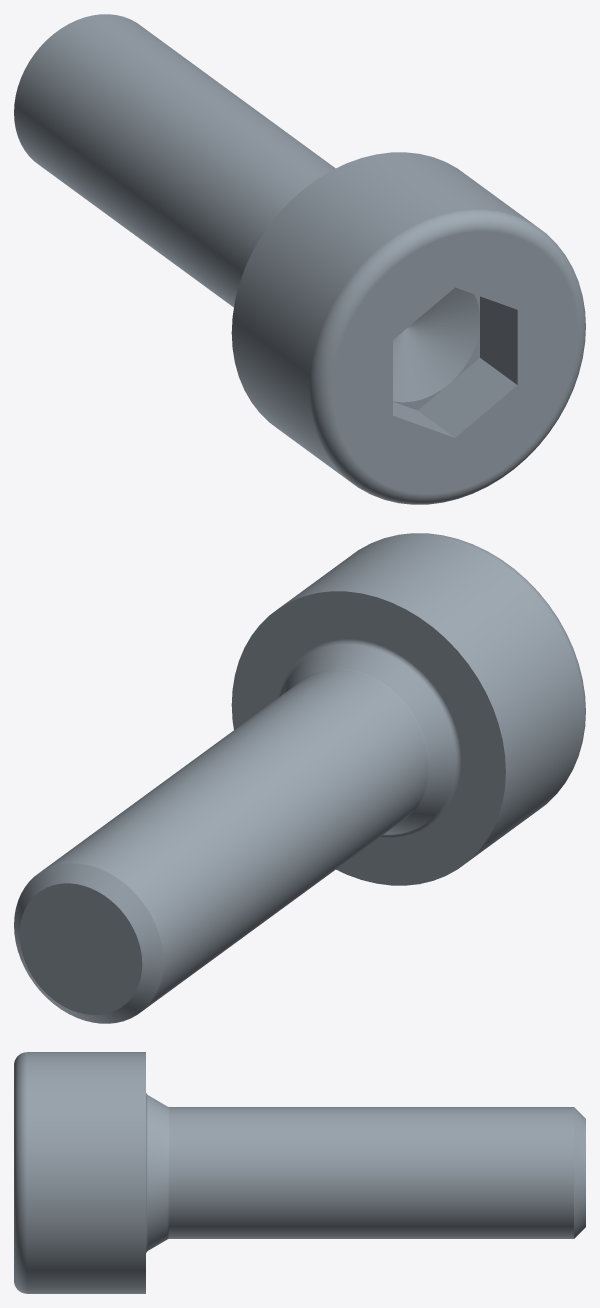
The model's file is Hex_socket_head_cap_screw_M3x0_50_x_10.obj.
The picture shows the model from 3 angles, top to bottom: view 1: azimuth 30°, elevation 25°; view 2: azimuth 150°, elevation 25°; view 3: azimuth 270°, elevation 25°; orthographic projection. The views are drawn at different scales.
Visible parts, largest first — view 1: mesh3513, mesh3520, mesh3518, mesh3519, mesh3528, mesh3526, mesh3521, mesh3525; view 2: mesh3513, mesh3518, mesh3517, mesh3511, mesh3515, mesh3512, mesh3516, mesh3519, mesh3514; view 3: mesh3513, mesh3518, mesh3519, mesh3515, mesh3512, mesh3516, mesh3514.
Boxes of the visible parts, x1=… form: mesh3513: x1=14, y1=14, x2=335, y2=307; mesh3520: x1=333, y1=231, x2=577, y2=493; mesh3518: x1=231, y1=152, x2=533, y2=480; mesh3519: x1=309, y1=209, x2=585, y2=504; mesh3528: x1=393, y1=287, x2=479, y2=402; mesh3526: x1=418, y1=358, x2=517, y2=437; mesh3521: x1=480, y1=296, x2=517, y2=384; mesh3525: x1=393, y1=402, x2=454, y2=437; mesh3513: x1=41, y1=669, x2=427, y2=1010; mesh3518: x1=281, y1=534, x2=583, y2=862; mesh3517: x1=231, y1=591, x2=505, y2=885; mesh3511: x1=19, y1=883, x2=142, y2=1014; mesh3515: x1=282, y1=644, x2=455, y2=834; mesh3512: x1=14, y1=863, x2=163, y2=1023; mesh3516: x1=278, y1=639, x2=461, y2=837; mesh3519: x1=368, y1=533, x2=585, y2=794; mesh3514: x1=298, y1=667, x2=430, y2=822; mesh3513: x1=169, y1=1107, x2=573, y2=1238; mesh3518: x1=27, y1=1052, x2=145, y2=1293; mesh3519: x1=14, y1=1052, x2=27, y2=1293; mesh3515: x1=148, y1=1095, x2=167, y2=1250; mesh3512: x1=574, y1=1107, x2=585, y2=1238; mesh3516: x1=146, y1=1093, x2=148, y2=1252; mesh3514: x1=167, y1=1106, x2=169, y2=1239.
Bounding box in the file's own units: 0.0055 × 0.00549 × 0.013.
